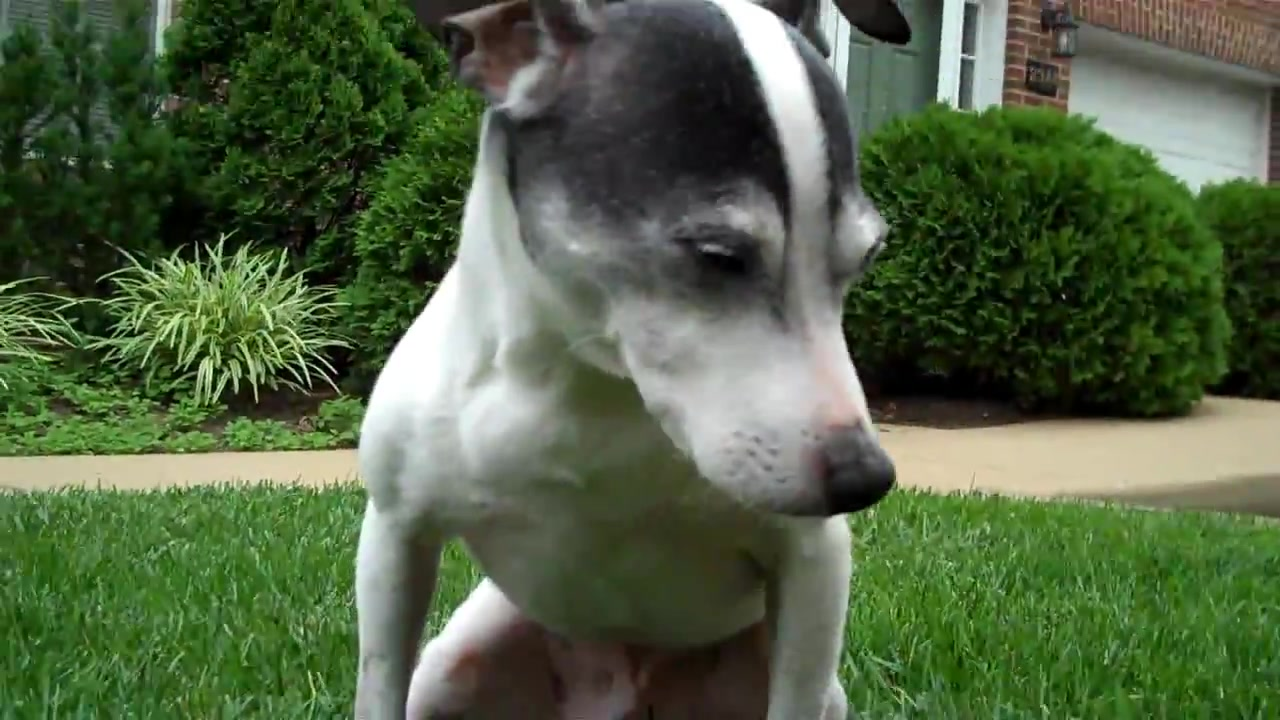dog: (354, 1, 898, 720)
